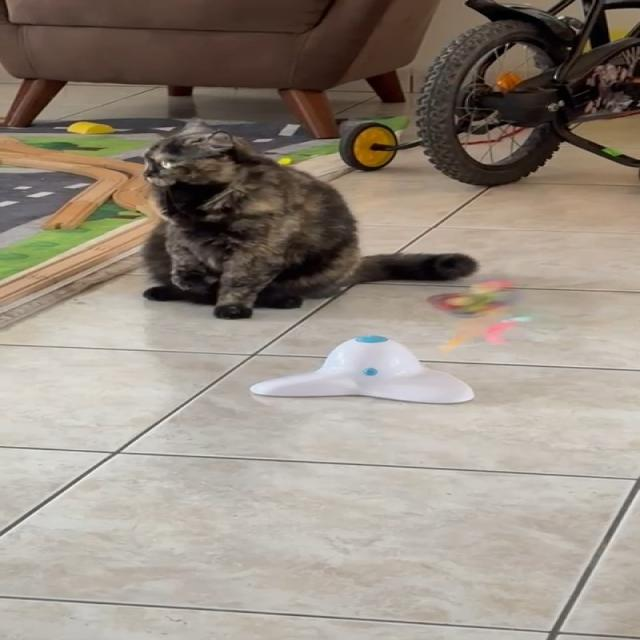authorized: (137, 117, 479, 319)
